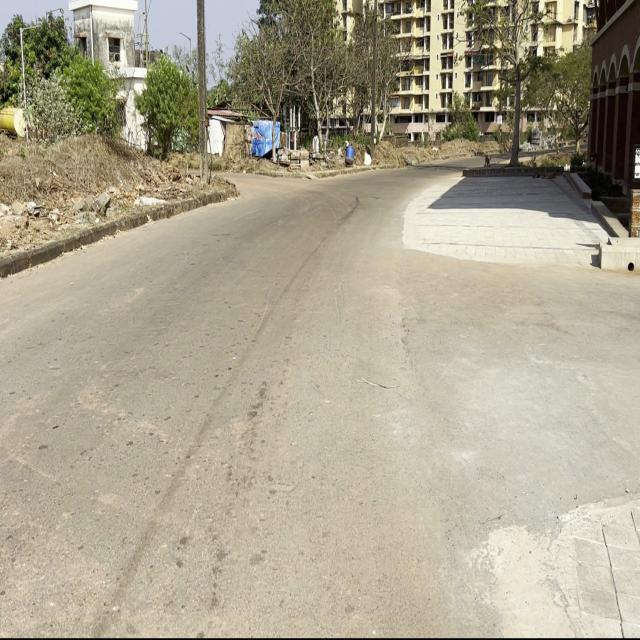Road: (2, 171, 457, 640)
